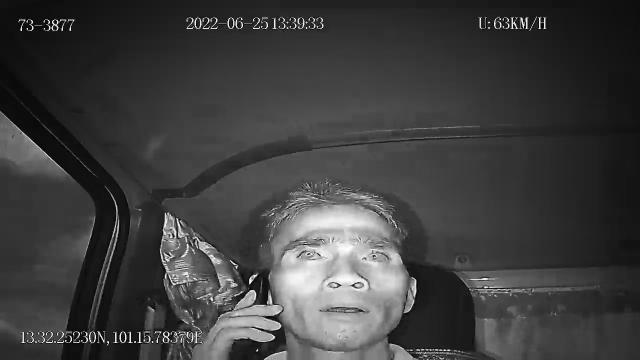PhoneUse: (236, 266, 270, 360)
SafeDriving: (354, 242, 398, 268), (290, 242, 332, 266)
